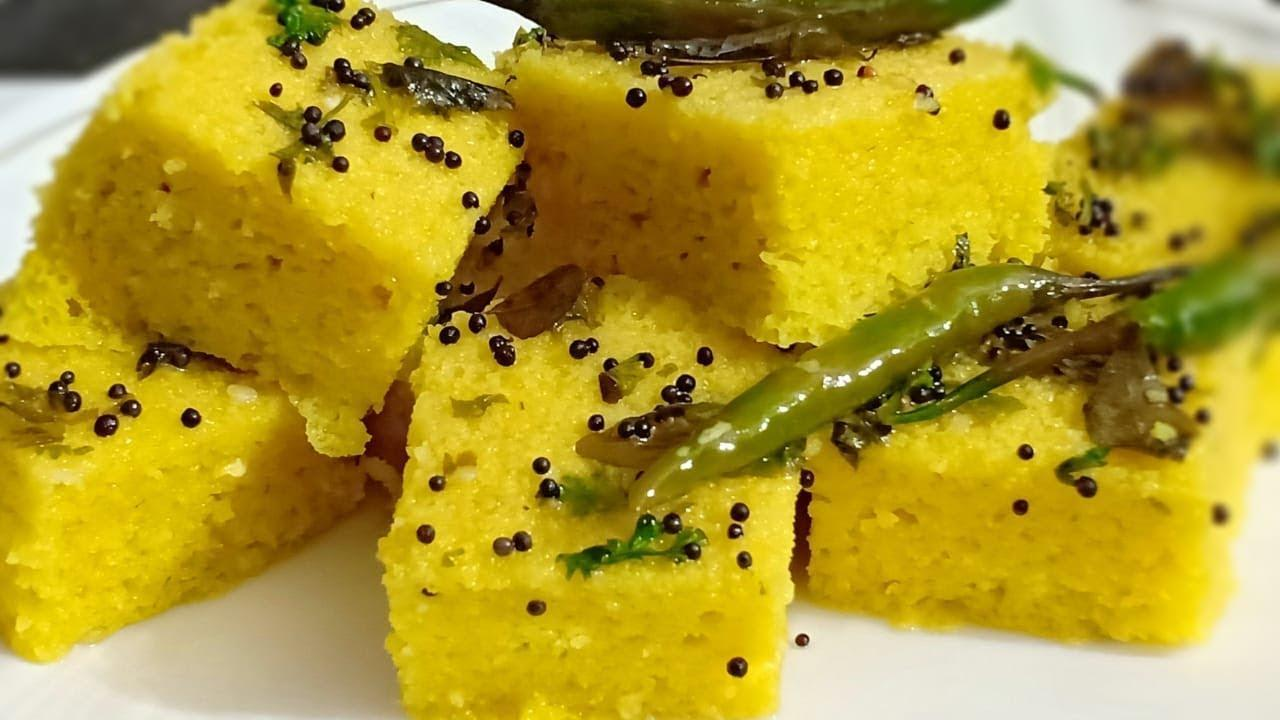dhokla: (4, 9, 1280, 720)
